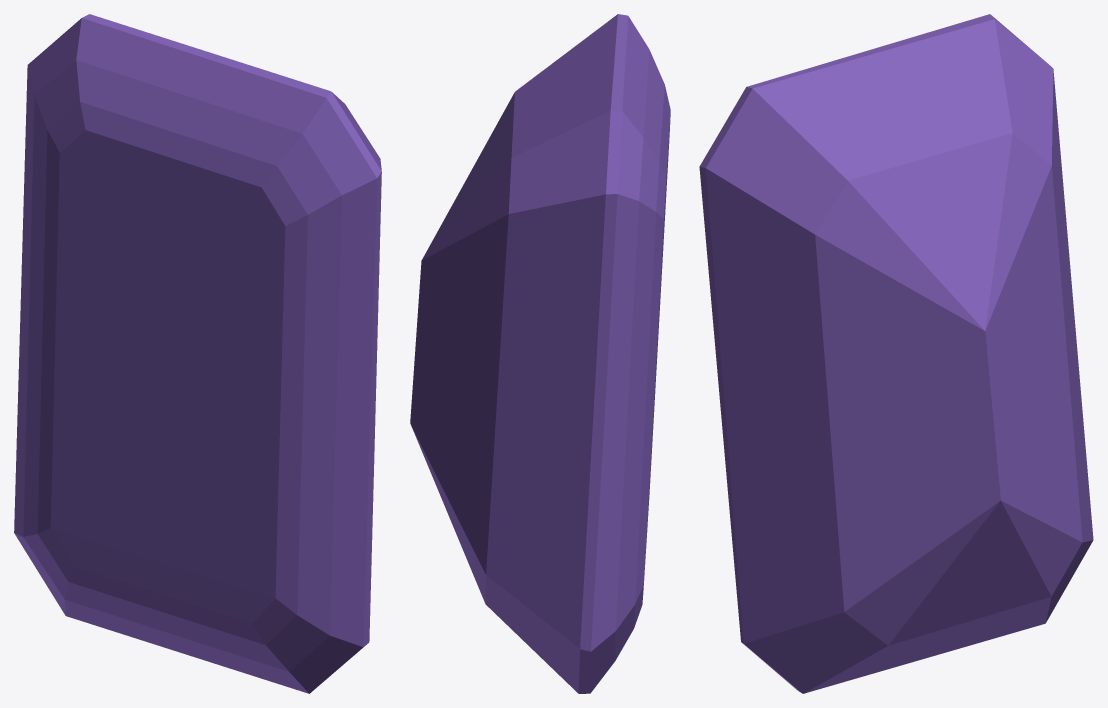
File: BL4_8shapes_Emerald_Classic_Stone.001 2.glb
3 views of the same model, side by side, from view 1: azimuth 30°, elevation 25°; view 2: azimuth 150°, elevation 25°; view 3: azimuth 270°, elevation 25° (orthographic). The views are drawn at different scales.
Parts seen in each view (by area): view 1: BL4_8shapes_Emerald_Classic_Stone.001; view 2: BL4_8shapes_Emerald_Classic_Stone.001; view 3: BL4_8shapes_Emerald_Classic_Stone.001.
Boxes of the visible parts, x1=… form: BL4_8shapes_Emerald_Classic_Stone.001: x1=14, y1=14, x2=381, y2=693; BL4_8shapes_Emerald_Classic_Stone.001: x1=410, y1=14, x2=670, y2=693; BL4_8shapes_Emerald_Classic_Stone.001: x1=699, y1=14, x2=1093, y2=693.
Bounding box in the file's own units: 0.2688 × 0.6241 × 0.3618.
